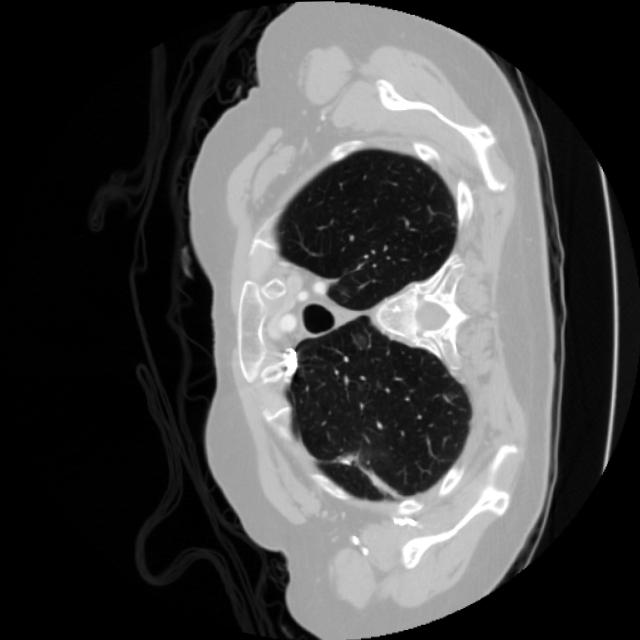nodule: (342, 326, 374, 358)
